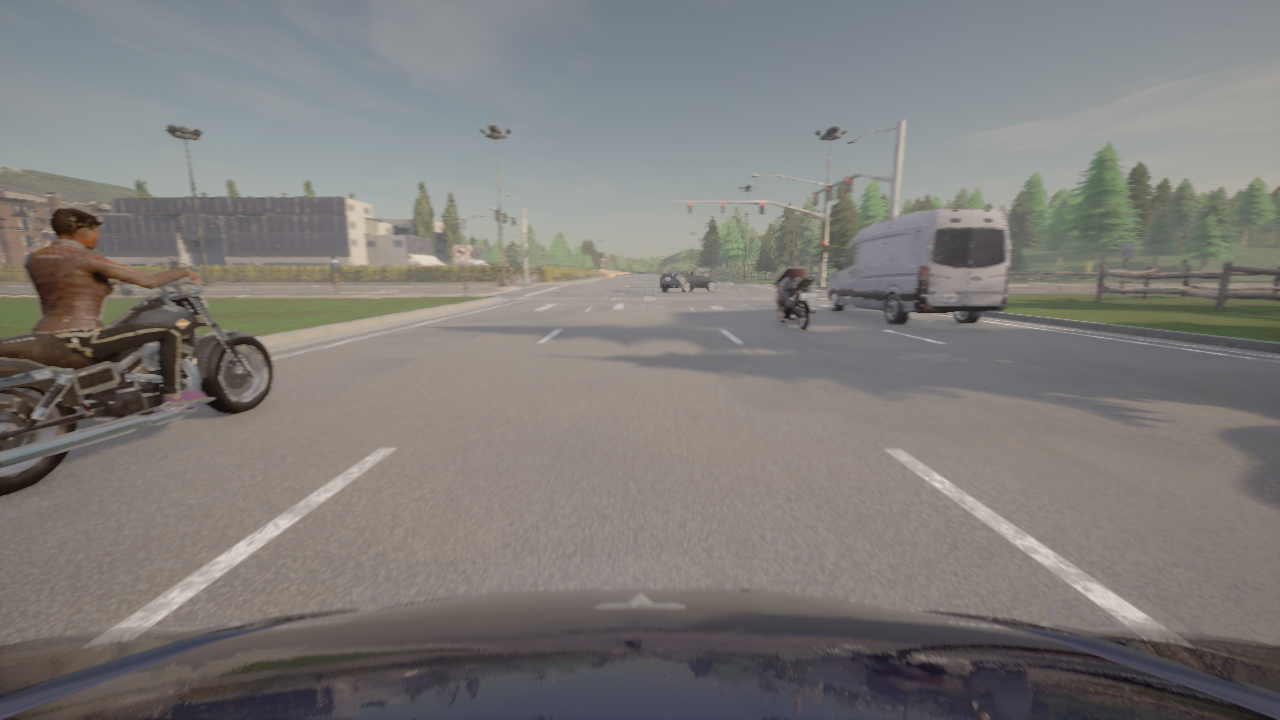cyclist: (0, 588, 1279, 719), (0, 265, 273, 496), (827, 209, 1011, 323), (769, 274, 818, 330), (659, 268, 715, 293)
pedestrian: (169, 256, 184, 289), (330, 255, 340, 295)
